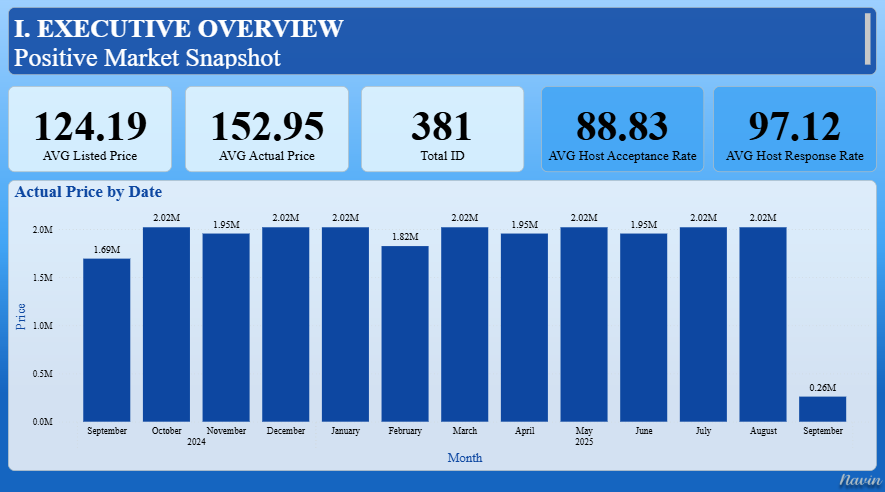

The dashboard page shown, as its layout file describes it:
{"tool":"powerbi","page":{"name":"I. Executive Overview","canvas":[1280,720],"ordinal":0},"visuals":[{"type":"textbox","box":[13.2,17.6,1251.2,98],"z":0},{"type":"card","fields":{"Values":["Avg(listings_cleaned.price_num)"]},"box":[13.2,130.7,235.6,144.9],"z":1000},{"type":"card","fields":{"Values":["Avg(calendar_cleaned.price_num)"]},"box":[267.8,130.7,235.6,144.9],"z":2000},{"type":"card","fields":{"Values":["Count(listings_cleaned.id)"]},"box":[521,130.7,235.6,144.9],"z":3000},{"type":"columnChart","title":"Actual Price by Date","fields":{"Y":["Sum(calendar_cleaned.price_num)"],"Category":["calendar_cleaned.date.Variation.Date Hierarchy.Year","calendar_cleaned.date.Variation.Date Hierarchy.Month"]},"box":[13.2,298.5,1251.2,403.9],"z":4000},{"type":"card","fields":{"Values":["Avg(listings_cleaned.host_acceptance_rate_num)"]},"box":[780,130.7,235.6,144.9],"z":5000},{"type":"card","fields":{"Values":["Avg(listings_cleaned.host_response_rate_num)"]},"box":[1028.8,130.7,235.6,144.9],"z":6000}]}

Visuals, with their boxes in screenshot pixels (x1, y1, x2, y2), scaled from the page's 1280x720 canvas onto the 885x492 screenshot:
textbox: x1=9, y1=12, x2=874, y2=79
card - Avg(listings_cleaned.price_num): x1=9, y1=89, x2=172, y2=188
card - Avg(calendar_cleaned.price_num): x1=185, y1=89, x2=348, y2=188
card - Count(listings_cleaned.id): x1=360, y1=89, x2=523, y2=188
"Actual Price by Date" columnChart: x1=9, y1=204, x2=874, y2=480
card - Avg(listings_cleaned.host_acceptance_rate_num): x1=539, y1=89, x2=702, y2=188
card - Avg(listings_cleaned.host_response_rate_num): x1=711, y1=89, x2=874, y2=188
